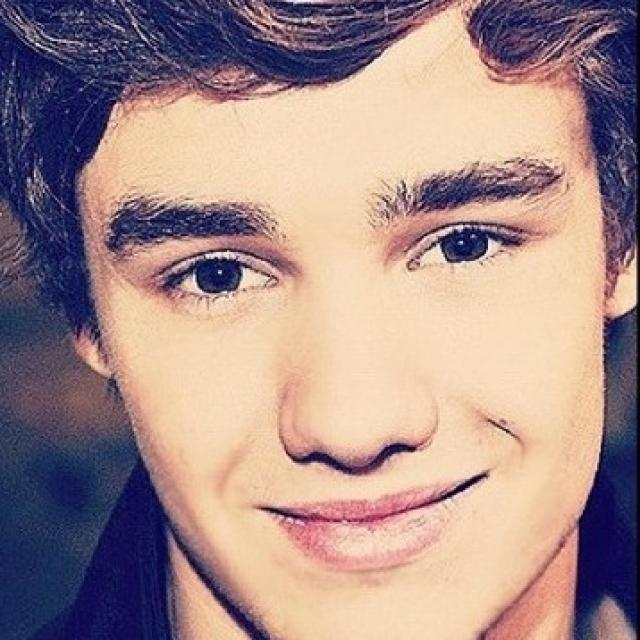Normal: (70, 7, 608, 638)
